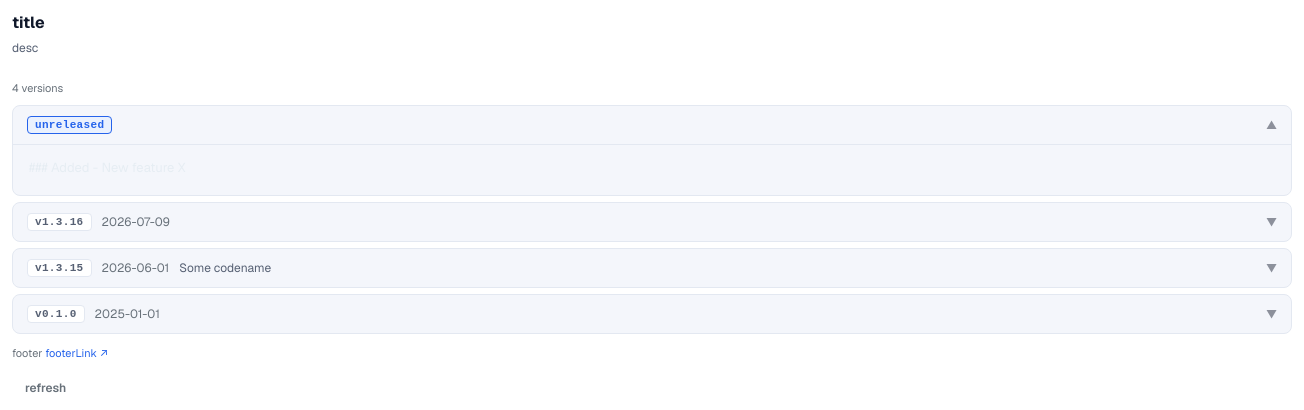
Test case: SectionChangelog — accordion cards (ok state) › clicking an expanded card collapses it and hides the body
Expected: the text "4 versions" is shown, [12,81,63,95]
Click the button with test id "changelog-toggle-Unreleased".
click(70, 125)  # box [13,106,1291,144]
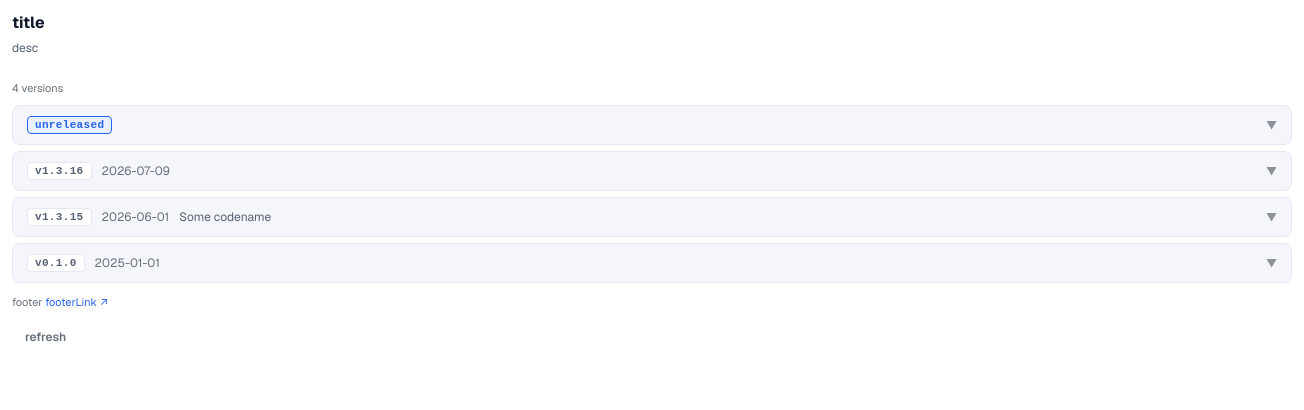
Expected: the button with test id "changelog-toggle-Unreleased" is collapsed, [13,106,1291,144]
Expected: the element with test id "changelog-body-Unreleased" is gone
